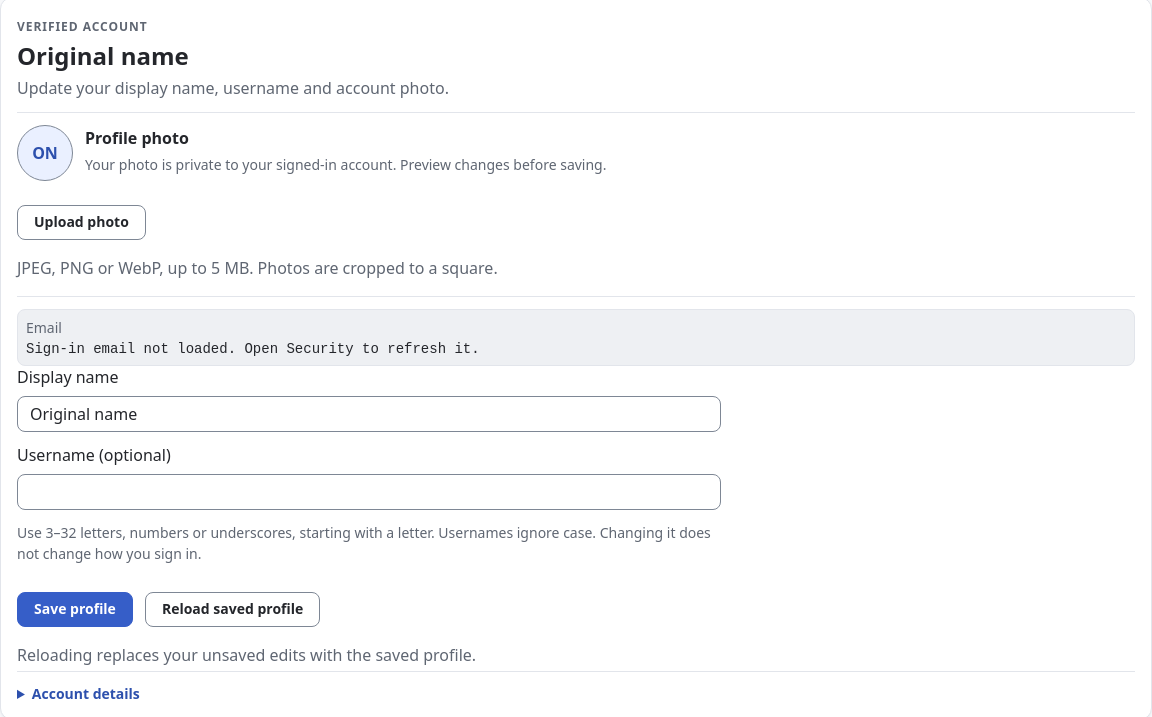
it: verified account profile form › rejects invalid usernames before sending a save
The image size is (1152, 717).
Check: the field labelled "Display name" is shown, box top-left (17, 396), bottom-right (721, 432)
Step 1. Type "admin" into the field labelled "Username (optional)" → point(369, 492), box top-left (17, 474), bottom-right (721, 510)
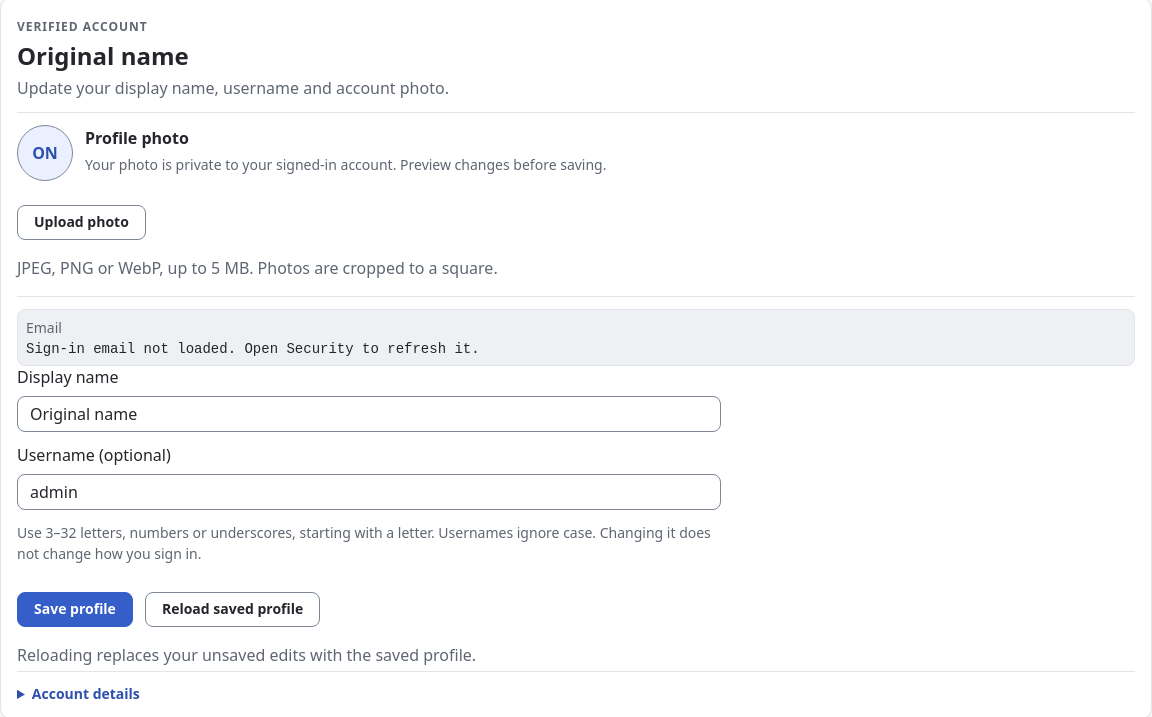
Step 2. Click the button "Save profile" → point(75, 610), box top-left (17, 592), bottom-right (133, 627)
(page scrolled)
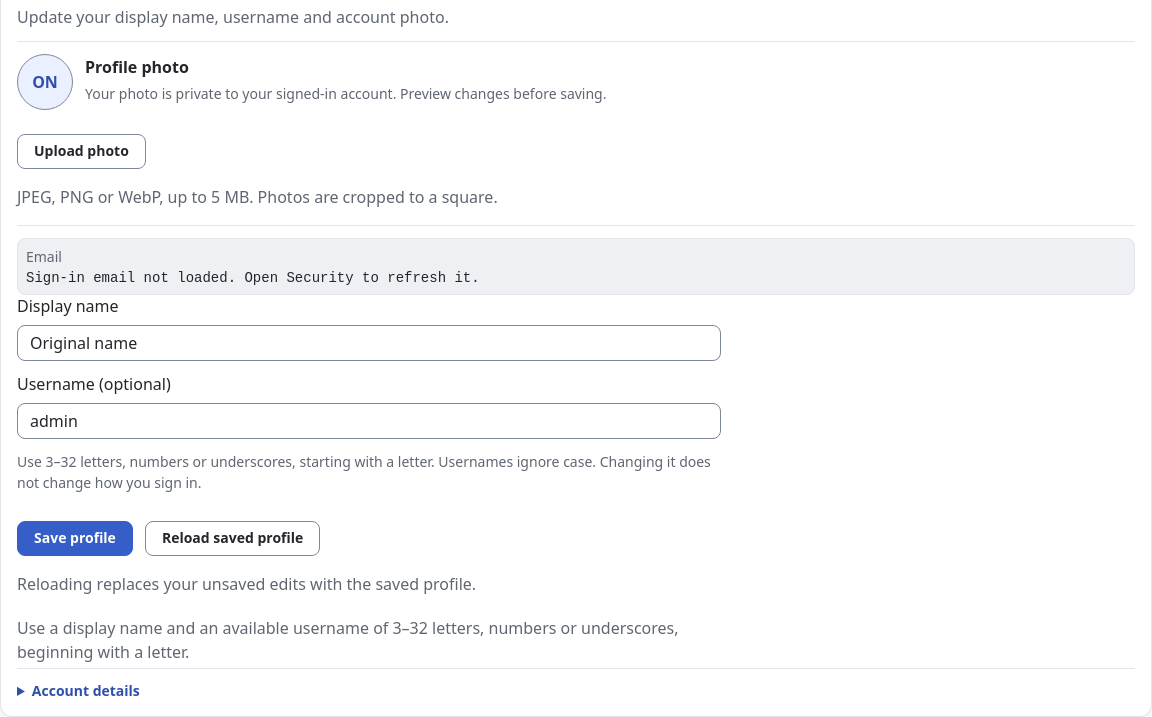
Check: the message is shown, box top-left (17, 616), bottom-right (721, 664)
